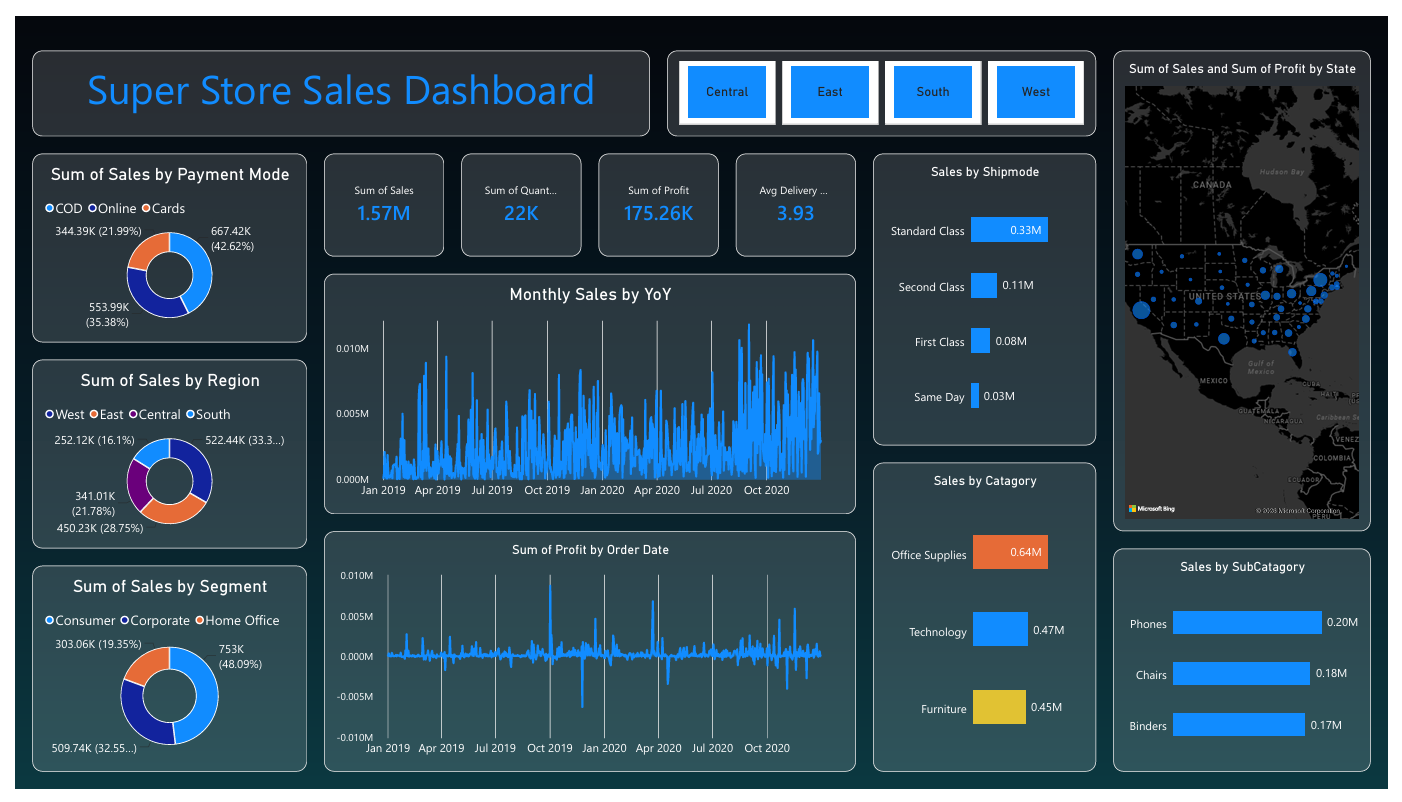

The page's visual inventory and layout, read from the dashboard file:
{"tool":"powerbi","page":{"name":"Page 1","canvas":[1920,1080],"ordinal":0},"visuals":[{"type":"clusteredBarChart","title":"Sales by Catagory","fields":{"Category":["SuperStore_Sales_Dataset.Category"],"Y":["Sum(SuperStore_Sales_Dataset.Sales)"]},"box":[1200,624,312,432],"z":0},{"type":"clusteredBarChart","title":"Sales by SubCatagory","fields":{"Category":["SuperStore_Sales_Dataset.Sub-Category"],"Y":["Sum(SuperStore_Sales_Dataset.Sales)"]},"box":[1536,744,360,312],"z":1000},{"type":"clusteredBarChart","title":"Sales by Shipmode","fields":{"Category":["SuperStore_Sales_Dataset.Ship Mode"],"Y":["Sum(SuperStore_Sales_Dataset.Sales)"]},"box":[1200,192,312,408],"z":2000},{"type":"stackedAreaChart","title":"Monthly Sales by YoY","fields":{"Category":["SuperStore_Sales_Dataset.Order Date.Variation.Date Hierarchy.Month"],"Y":["Sum(SuperStore_Sales_Dataset.Sales)"]},"box":[432,360,744,336],"z":3000},{"type":"stackedAreaChart","fields":{"Category":["SuperStore_Sales_Dataset.Order Date.Variation.Date Hierarchy.Month"],"Y":["Sum(SuperStore_Sales_Dataset.Profit)"]},"box":[432,720,744,336],"z":4000},{"type":"map","fields":{"Category":["SuperStore_Sales_Dataset.State"],"Size":["Sum(SuperStore_Sales_Dataset.Sales)"]},"box":[1536,48,360,672],"z":5000},{"type":"donutChart","fields":{"Category":["SuperStore_Sales_Dataset.Segment"],"Y":["Sum(SuperStore_Sales_Dataset.Sales)"]},"box":[24,768,384,288],"z":6000},{"type":"donutChart","fields":{"Category":["SuperStore_Sales_Dataset.Payment Mode"],"Y":["Sum(SuperStore_Sales_Dataset.Sales)"]},"box":[24,192,384,264],"z":7000},{"type":"advancedSlicerVisual","fields":{"Values":["SuperStore_Sales_Dataset.Region"]},"box":[912,48,600,120],"z":8000},{"type":"textbox","box":[24,48,864,120],"z":9000},{"type":"cardVisual","title":"dfdg","fields":{"Data":["Sum(SuperStore_Sales_Dataset.Sales)"]},"box":[432,192,168,144],"z":10000},{"type":"cardVisual","title":"dfdg","fields":{"Data":["Sum(SuperStore_Sales_Dataset.Quantity)"]},"box":[624,192,168,144],"z":11000},{"type":"cardVisual","title":"dfdg","fields":{"Data":["Avg(SuperStore_Sales_Dataset.AvgDelivery)"]},"box":[1008,192,168,144],"z":12000},{"type":"cardVisual","title":"dfdg","fields":{"Data":["Sum(SuperStore_Sales_Dataset.Profit)"]},"box":[816,192,168,144],"z":13000},{"type":"donutChart","fields":{"Category":["SuperStore_Sales_Dataset.Region"],"Y":["Sum(SuperStore_Sales_Dataset.Sales)"]},"box":[24,480,384,264],"z":14000}]}

Visuals, with their boxes in screenshot pixels (x1, y1, x2, y2), scaled from the page's 1920x1080 canvas onto the 1402x802 screenshot:
"Sales by Catagory" clusteredBarChart: [876,463,1104,784]
"Sales by SubCatagory" clusteredBarChart: [1122,552,1384,784]
"Sales by Shipmode" clusteredBarChart: [876,143,1104,446]
"Monthly Sales by YoY" stackedAreaChart: [315,267,859,517]
stackedAreaChart - SuperStore_Sales_Dataset.Order Date.Variation.Date Hierarchy.Month x Sum(SuperStore_Sales_Dataset.Profit): [315,535,859,784]
map - SuperStore_Sales_Dataset.State x Sum(SuperStore_Sales_Dataset.Sales): [1122,36,1384,535]
donutChart - SuperStore_Sales_Dataset.Segment x Sum(SuperStore_Sales_Dataset.Sales): [18,570,298,784]
donutChart - SuperStore_Sales_Dataset.Payment Mode x Sum(SuperStore_Sales_Dataset.Sales): [18,143,298,339]
advancedSlicerVisual - SuperStore_Sales_Dataset.Region: [666,36,1104,125]
textbox: [18,36,648,125]
"dfdg" cardVisual: [315,143,438,250]
"dfdg" cardVisual: [456,143,578,250]
"dfdg" cardVisual: [736,143,859,250]
"dfdg" cardVisual: [596,143,719,250]
donutChart - SuperStore_Sales_Dataset.Region x Sum(SuperStore_Sales_Dataset.Sales): [18,356,298,552]
